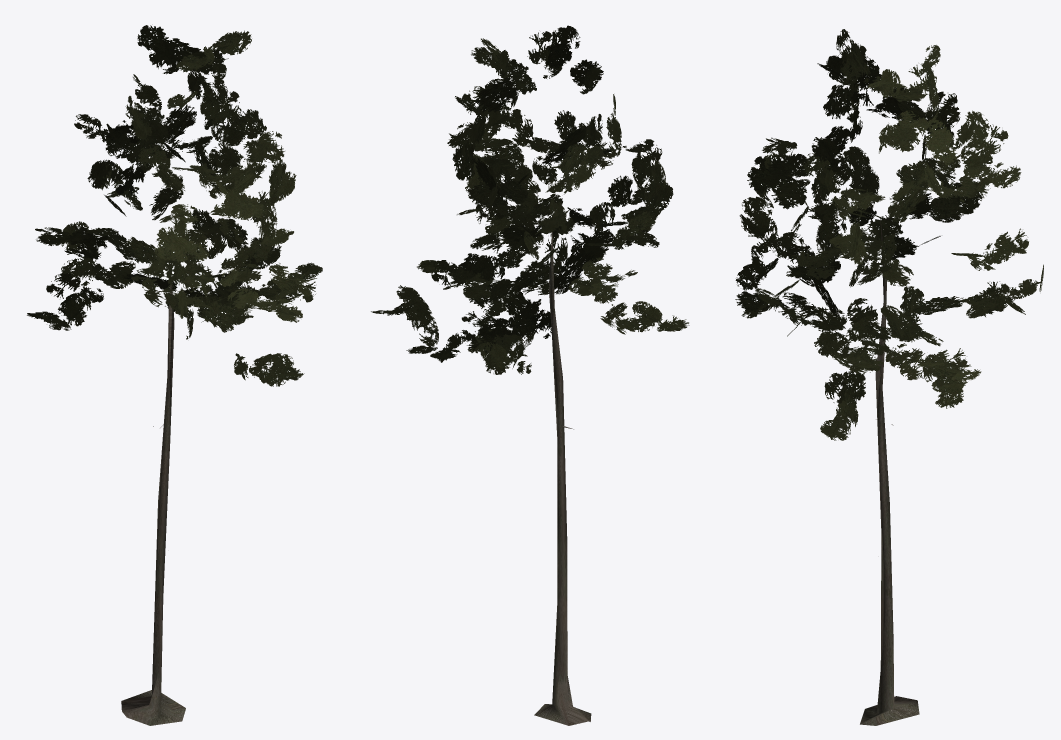
The model's file is fir_c.glb.
The picture shows the model from 3 angles, left to right: view 1: azimuth 30°, elevation 25°; view 2: azimuth 150°, elevation 25°; view 3: azimuth 270°, elevation 25°; orthographic projection. The views are drawn at different scales.
Visible parts, largest first — view 1: cards, fir_tree_01_trunk_c; view 2: cards, fir_tree_01_trunk_c; view 3: cards, fir_tree_01_trunk_c.
Boxes of the visible parts, bbox=[...] form: cards: bbox=[27, 25, 322, 386]; fir_tree_01_trunk_c: bbox=[121, 220, 185, 725]; cards: bbox=[371, 25, 689, 374]; fir_tree_01_trunk_c: bbox=[534, 232, 591, 725]; cards: bbox=[735, 29, 1043, 440]; fir_tree_01_trunk_c: bbox=[860, 220, 919, 725].
Bounding box in the file's own units: 6.65 × 14.75 × 5.99.
Materials: 2 (2 with a texture image).
